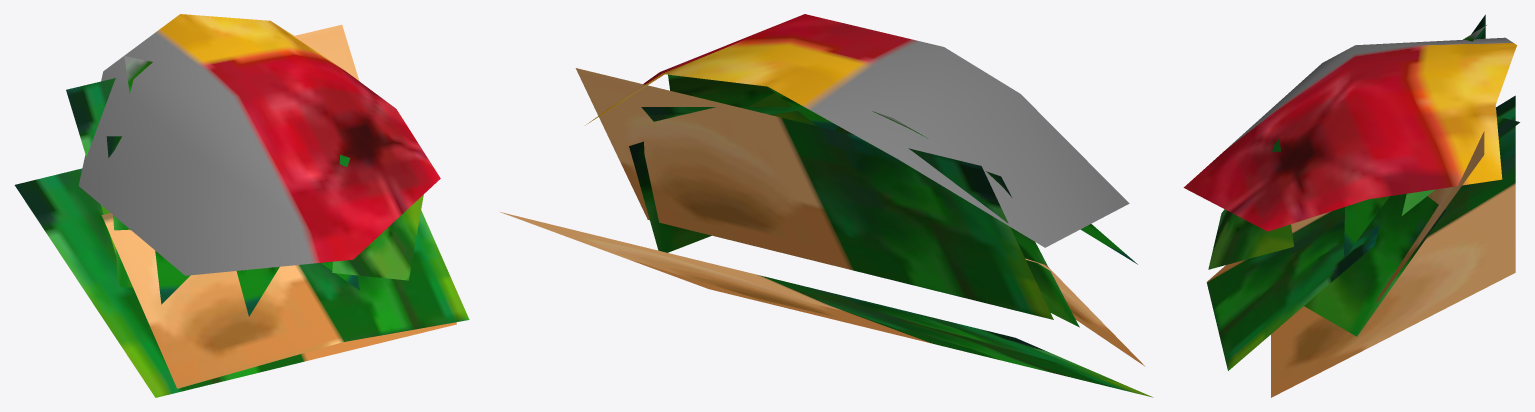
The model's file is fg_bushD_2_s.dae.
The picture shows the model from 3 angles, left to right: view 1: azimuth 30°, elevation 25°; view 2: azimuth 150°, elevation 25°; view 3: azimuth 270°, elevation 25°; orthographic projection. The views are drawn at different scales.
Parts seen in each view (by area): view 1: fg_bushD_2_s; view 2: fg_bushD_2_s; view 3: fg_bushD_2_s.
Part boxes in pixels (left/top/right/bottom): fg_bushD_2_s: left=14, top=14, right=469, bottom=397; fg_bushD_2_s: left=500, top=14, right=1153, bottom=397; fg_bushD_2_s: left=1183, top=14, right=1519, bottom=397.
Size of the model in its own units: 47.83 by 34.27 by 38.41.
1 material, 1 textured.
